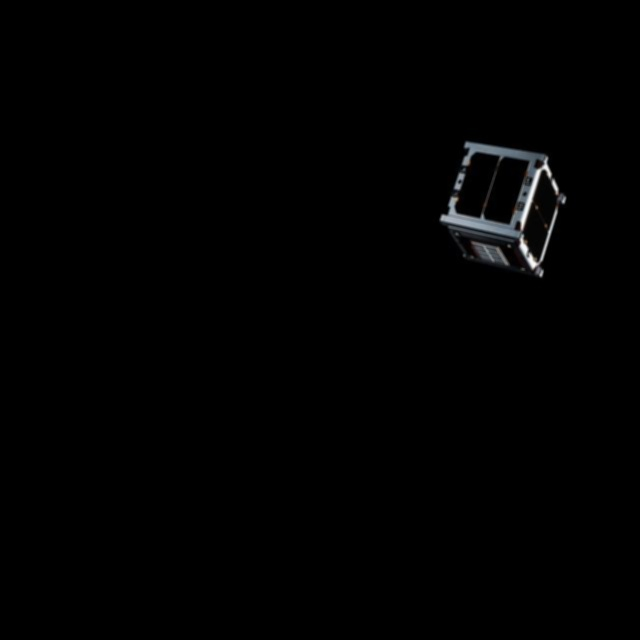medium_debris: (435, 137, 565, 284)
